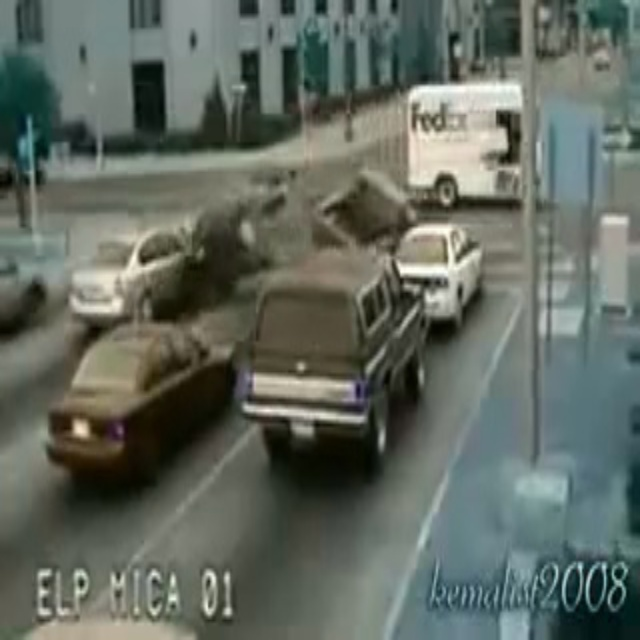acc: (62, 171, 407, 333)
